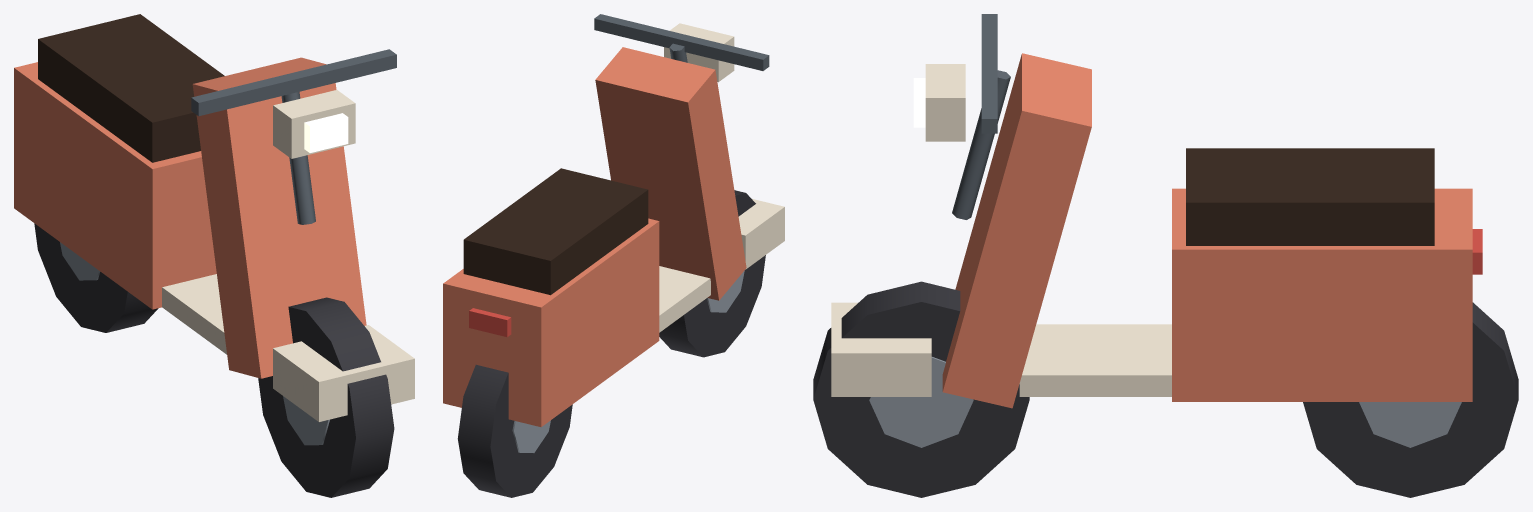
Rendered from scooter-01.glb.
3 views of the same model, side by side, from view 1: azimuth 30°, elevation 25°; view 2: azimuth 150°, elevation 25°; view 3: azimuth 270°, elevation 25° (orthographic). The views are drawn at different scales.
Visible parts, largest first — view 1: Body, Wheels, Seat, Handlebar, Lights; view 2: Body, Seat, Wheels, Handlebar, Lights; view 3: Body, Wheels, Seat, Handlebar, Lights.
Boxes of the visible parts, x1,y1,x2,y2 form: Body: (14,57,414,421); Wheels: (34,223,394,497); Seat: (38,14,224,162); Handlebar: (191,49,396,224); Lights: (304,113,348,152); Body: (443,47,784,426); Seat: (463,168,648,295); Wheels: (457,190,765,497); Handlebar: (594,14,769,82); Lights: (469,308,511,337); Body: (831,53,1472,408); Wheels: (813,281,1518,497); Seat: (1186,148,1434,245); Handlebar: (925,14,1010,219); Lights: (913,78,1482,274).
Size of the model in its own units: 0.62 by 1.16 by 1.76.
